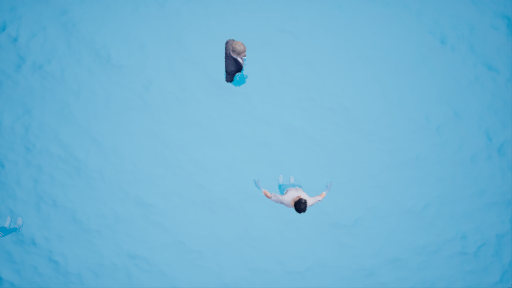person: (247, 165, 334, 217), (213, 32, 257, 90)
